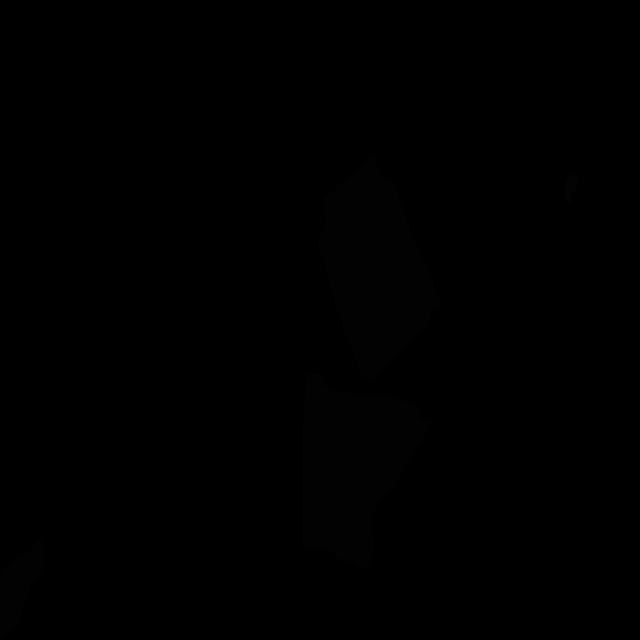cardboard: (318, 155, 442, 381), (302, 372, 433, 570), (0, 538, 45, 640)
metal: (564, 173, 578, 204)
